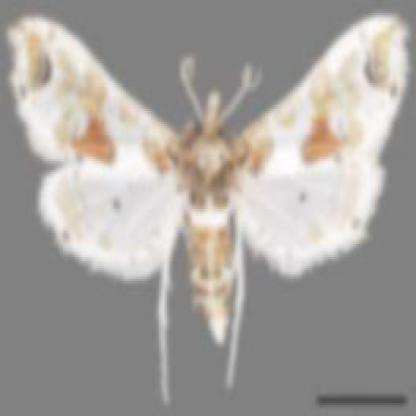leucinodes: (9, 17, 407, 343)
